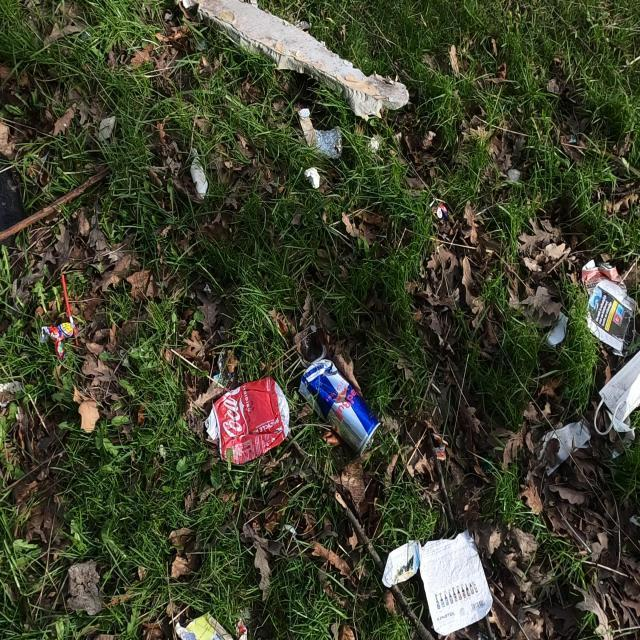Can-Metal: (299, 349, 384, 454), (194, 376, 290, 466)
Mask: (584, 356, 638, 439)
Plastic: (37, 318, 78, 362)
